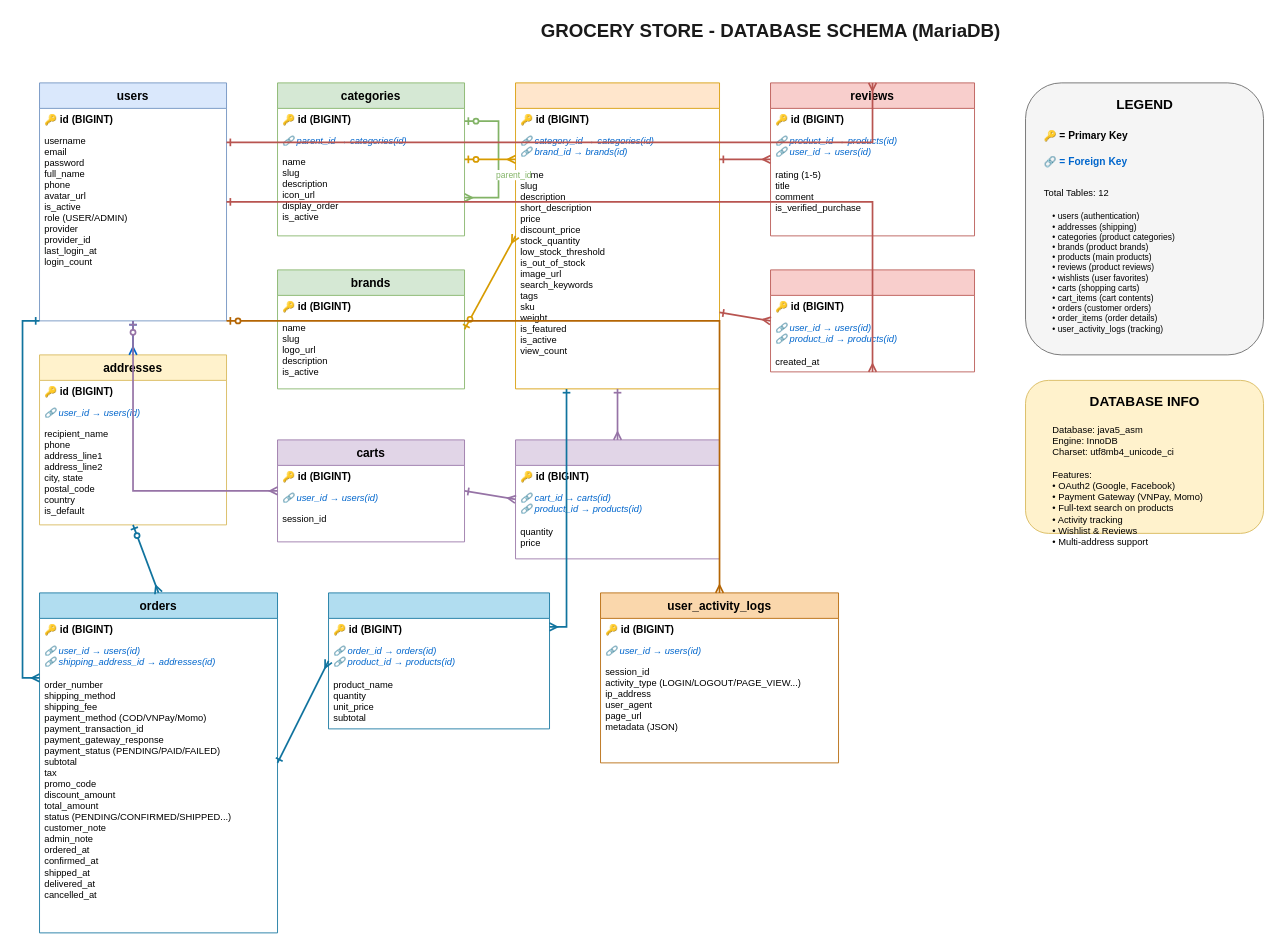
Some shapes in this 1278 by 948 pixel diagram are drawn without their labels. Here are the shapes that lost their labels. From the top down, the box of each, then its label:
(515, 82, 720, 389): products
(770, 269, 975, 372): wishlists
(515, 439, 720, 559): cart_items
(328, 592, 550, 729): order_items
